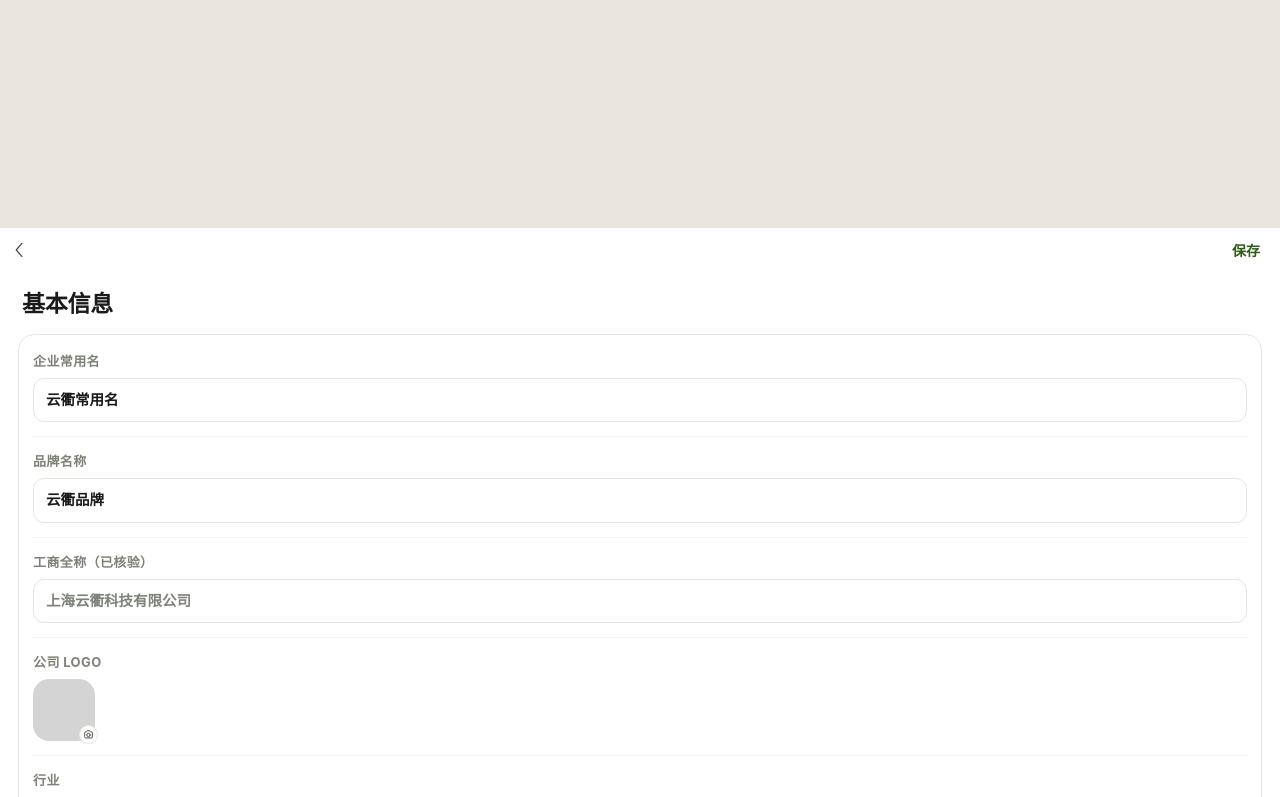
Test: 公司档案分区编辑 · Backend 完整 replacement › 409 organization_name_conflict 给常用名冲突提示并保留输入，不离开页面
(page scrolled)
Replace the text in the field named "企业常用名" with "已被占用的名字" at (640, 400), box [33, 378, 1247, 422]
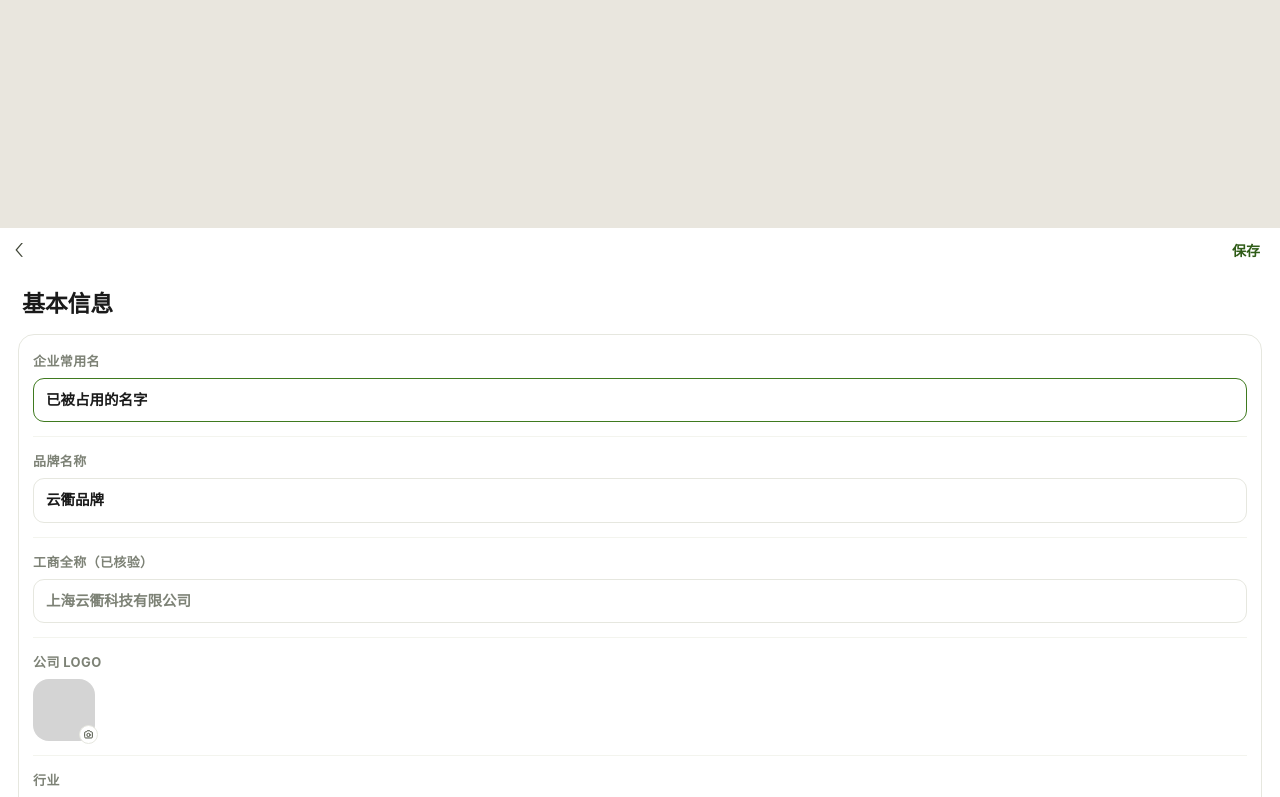
Click the button "保存" at (1242, 250), box [1222, 234, 1262, 266]
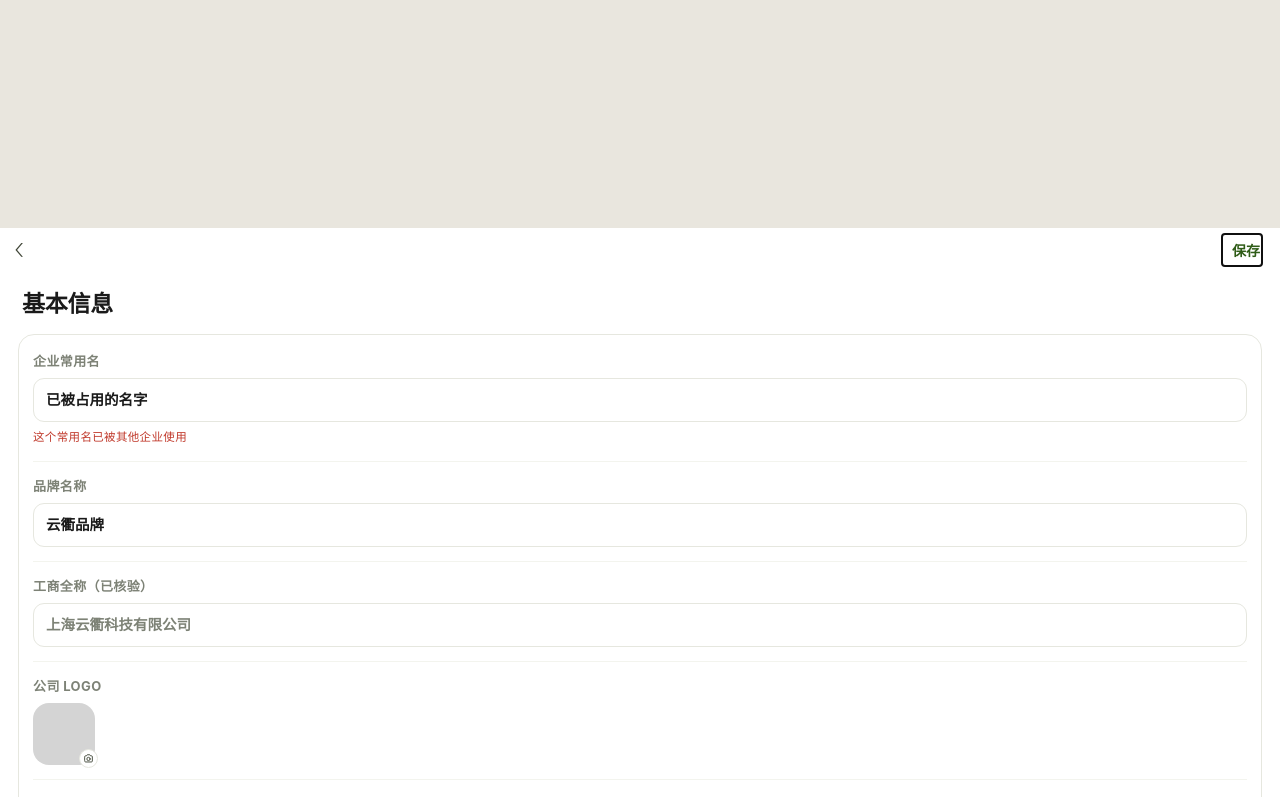
Result: the text "这个常用名已被其他企业使用" is shown at [33, 430, 187, 444]
